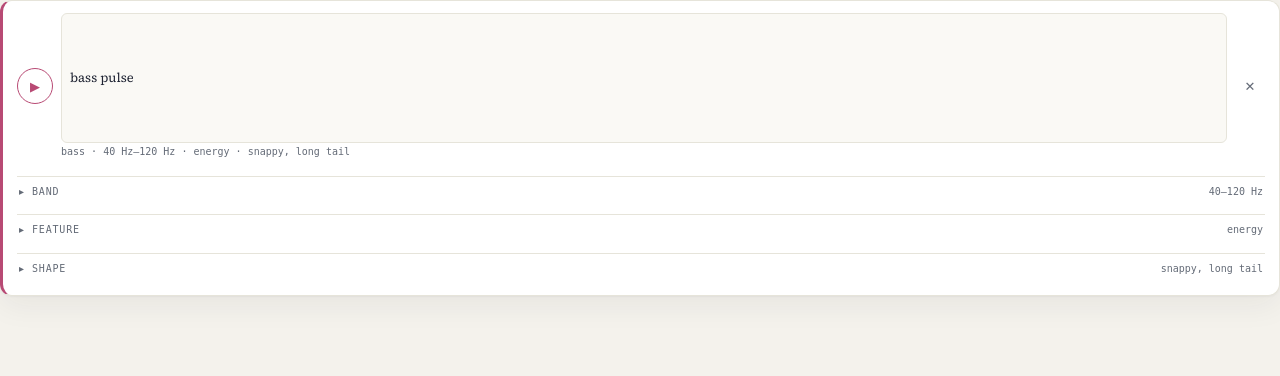
SignalCardView › opening `band` reveals the spectrogram and the Hz fields
Click the button with class "sig-sec-head" showing "▸ band 40–120 Hz".
click(1236, 191)  # box x1=17 y1=176 x2=1265 y2=206
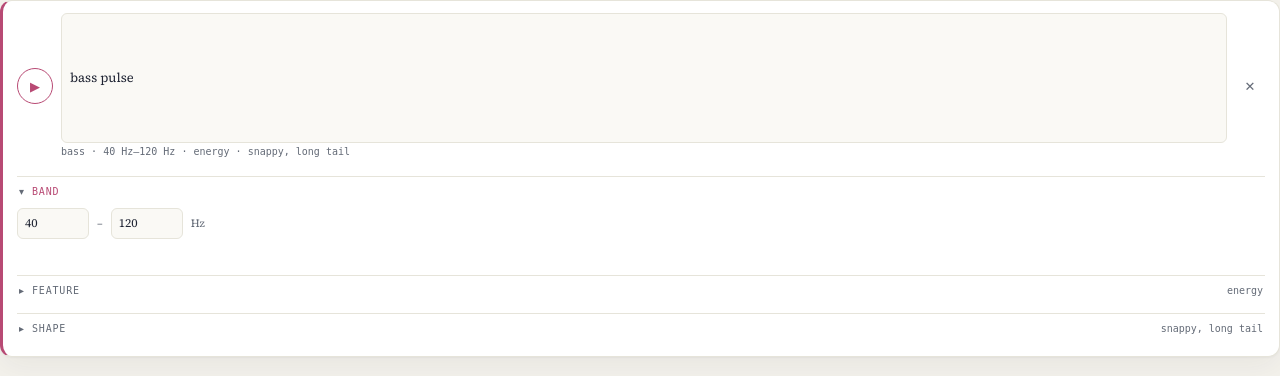
Expected: the number field named "band low" holds "40", x1=17 y1=208 x2=89 y2=239
Expected: the number field named "band high" holds "120", x1=111 y1=208 x2=183 y2=239
